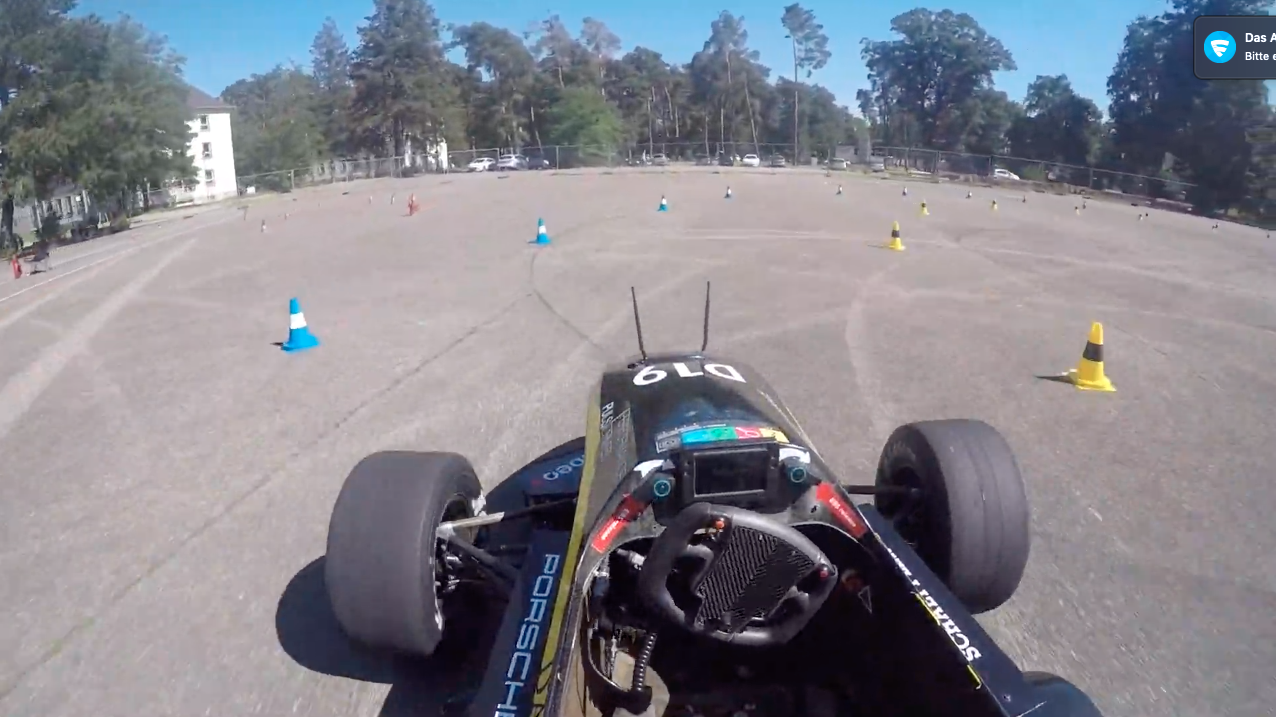lcone: (279, 296, 323, 357), (530, 214, 556, 248), (655, 192, 672, 216)
rcone: (1058, 317, 1123, 395), (882, 219, 909, 253)
